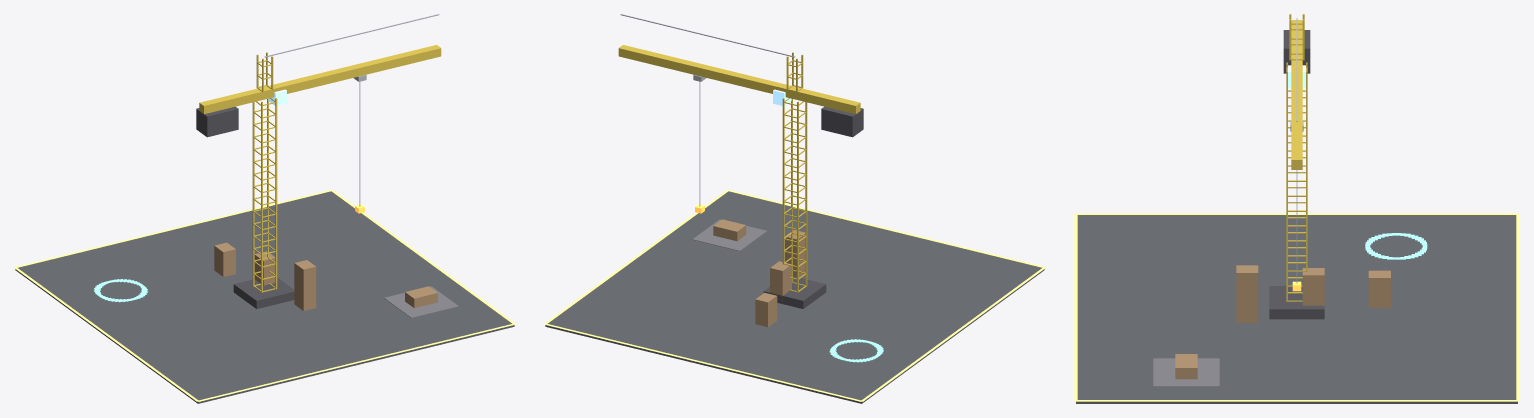
Rendered from sim-crane-lift.glb.
3 views of the same model, side by side, from view 1: azimuth 30°, elevation 25°; view 2: azimuth 150°, elevation 25°; view 3: azimuth 270°, elevation 25° (orthographic). The views are drawn at different scales.
Parts seen in each view (by area): view 1: Tower Crane Lift; view 2: Tower Crane Lift; view 3: Tower Crane Lift.
Boxes of the visible parts, x1,y1,x2,y2 form: Tower Crane Lift: (14,14,515,403); Tower Crane Lift: (544,14,1045,403); Tower Crane Lift: (1074,14,1519,403).
Size of the model in its own units: 42.15 by 29.3 by 40.3.
